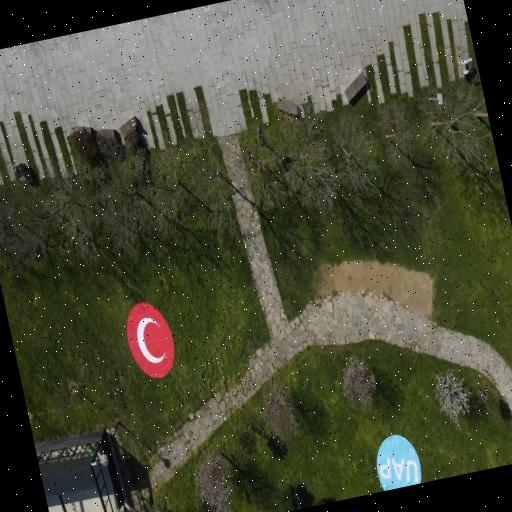UAI: (127, 302, 174, 377)
UAP: (377, 434, 421, 490)
